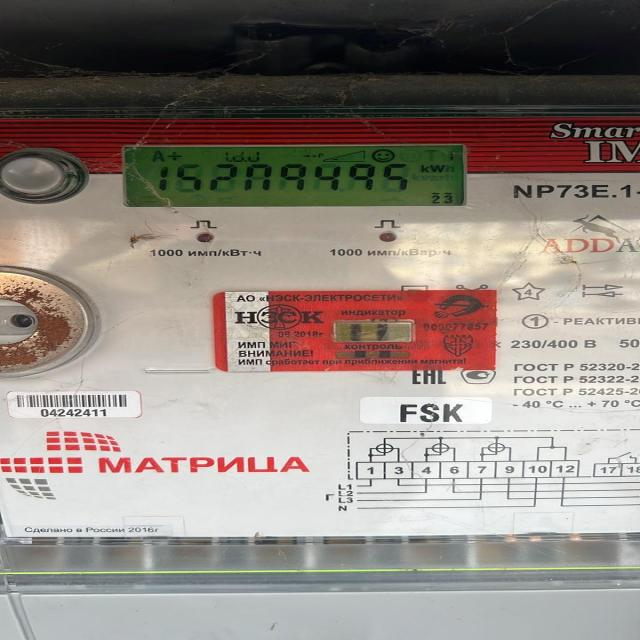Display: (126, 142, 468, 206)
meter_matrica: (1, 112, 640, 560)
meter_number: (4, 390, 144, 420)
seal_imp: (215, 288, 496, 370)
